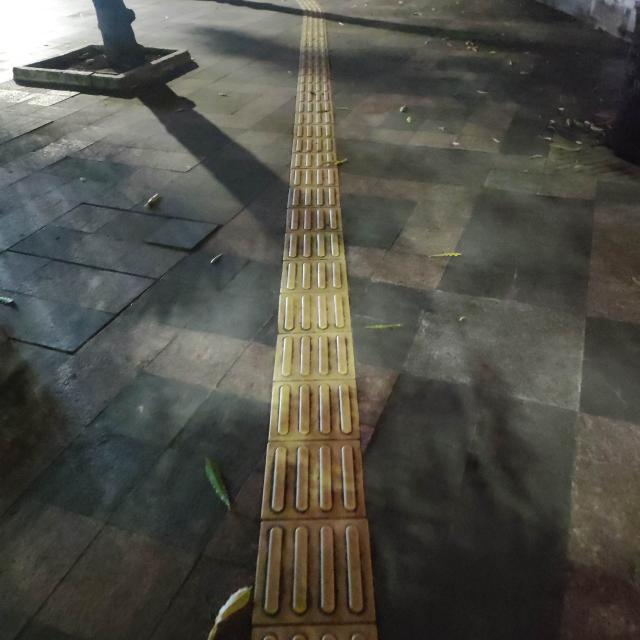lurus: (260, 0, 382, 640)
